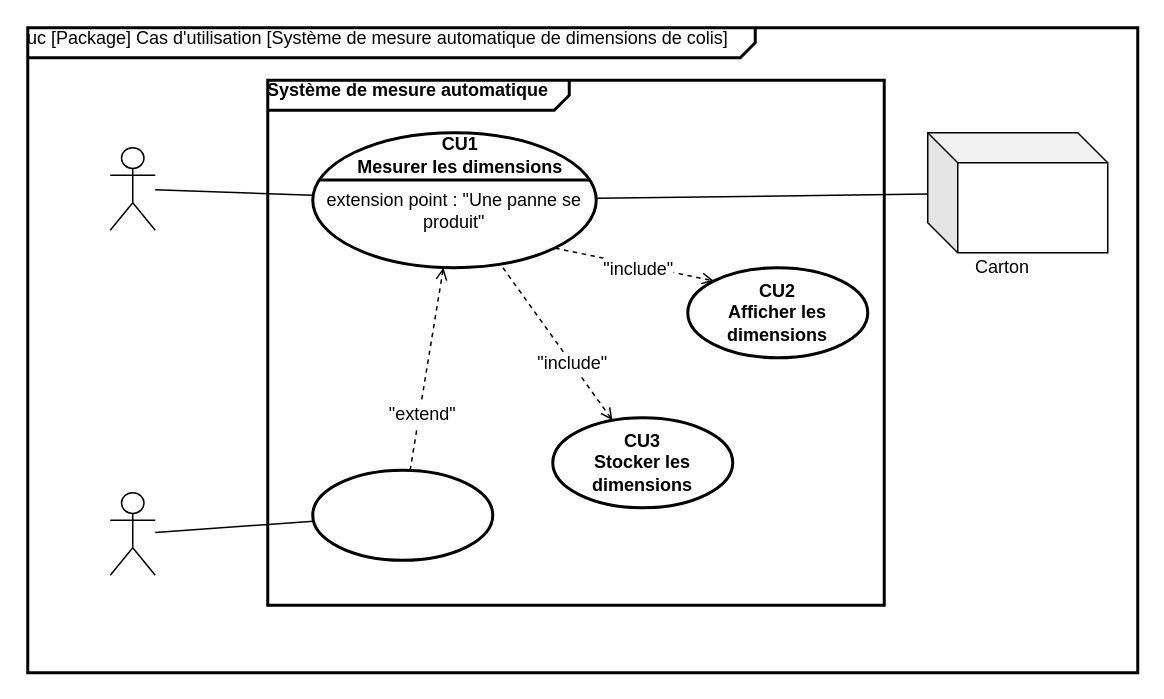
This 1164x699 diagram has some shape labels left out. Here are the shapes that lost their labels. From the top down, the centre of each, then its label:
At (132,188): "Opérateur".
At (132,533): "Technicien".
At (402,514): "CU4 Dépanner".
